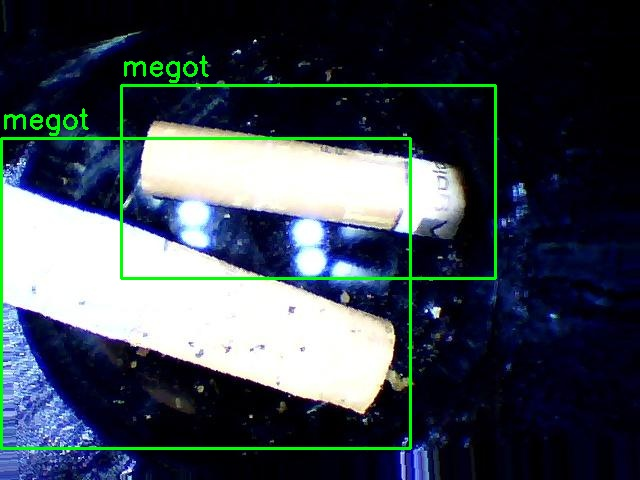megot: (1, 138, 410, 448), (121, 85, 495, 278)
